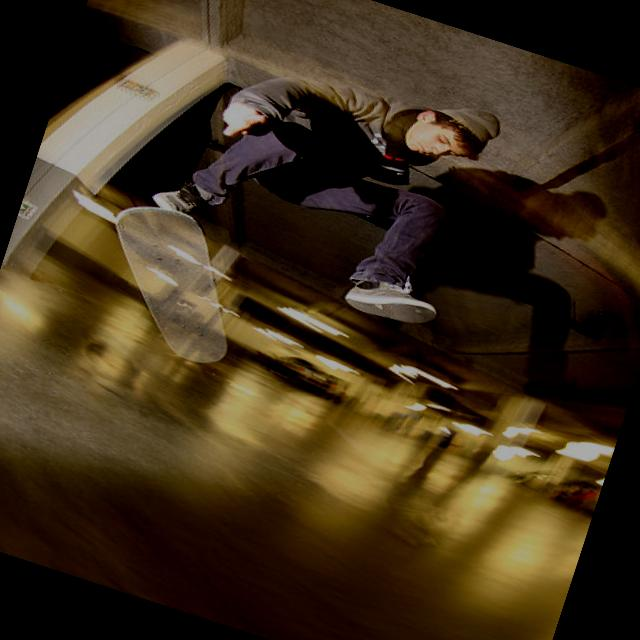Vehicle: (246, 344, 342, 400)
